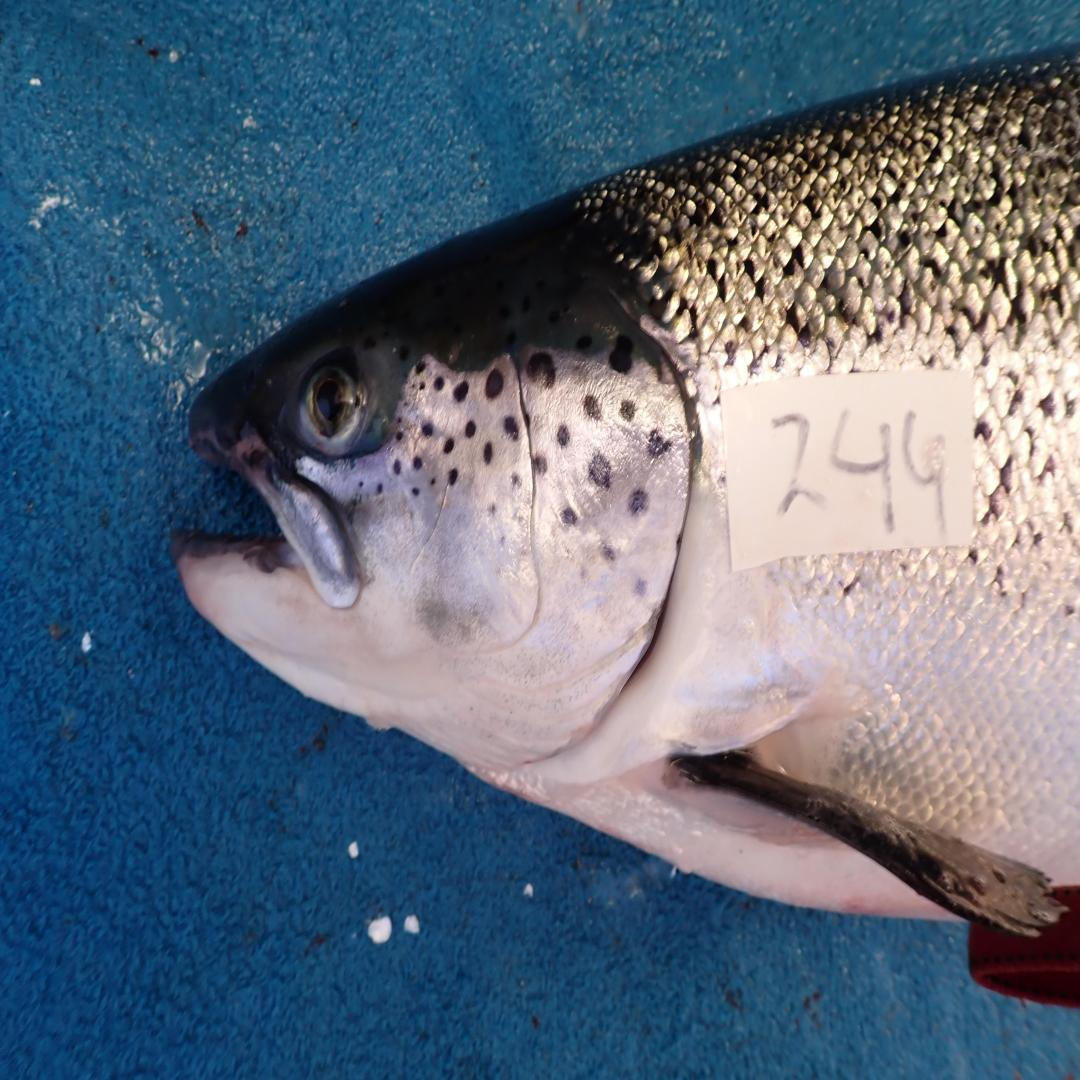spot: (525, 352, 555, 388), (610, 335, 633, 374), (589, 453, 612, 489), (648, 430, 673, 458), (485, 368, 504, 399), (629, 489, 648, 515), (601, 540, 618, 565), (555, 422, 572, 447), (584, 397, 601, 419), (633, 577, 650, 599), (620, 399, 635, 422), (504, 416, 519, 439), (561, 506, 578, 526), (454, 380, 468, 402), (464, 419, 477, 439), (483, 442, 494, 464), (534, 456, 546, 475), (421, 422, 434, 437), (447, 470, 458, 487), (510, 472, 521, 488), (443, 439, 454, 453), (392, 458, 401, 475), (435, 377, 445, 391), (525, 408, 532, 428), (412, 456, 422, 470), (415, 361, 426, 373), (411, 487, 421, 496), (396, 431, 404, 442), (377, 483, 383, 494), (419, 381, 425, 391), (489, 504, 495, 514), (358, 481, 363, 488), (431, 479, 435, 485), (397, 419, 402, 423)
